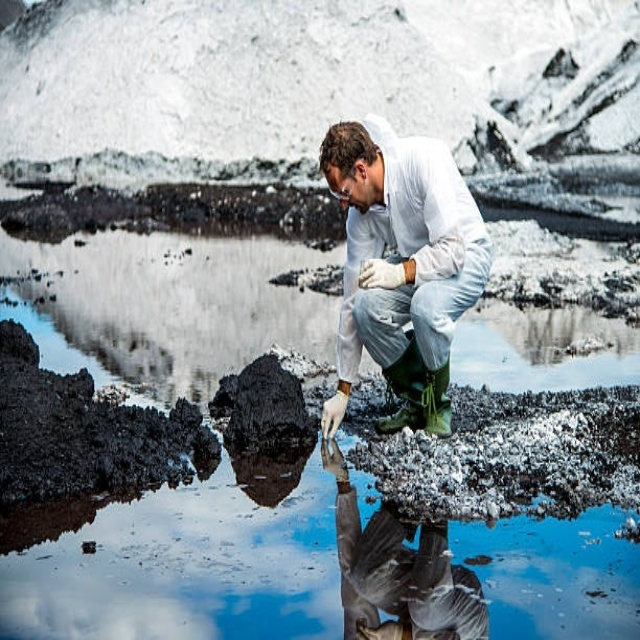Gafas: (329, 165, 357, 202)
Guantes: (359, 258, 407, 291), (320, 389, 350, 440), (321, 438, 351, 485)
Sin_mascara: (344, 199, 367, 218)
